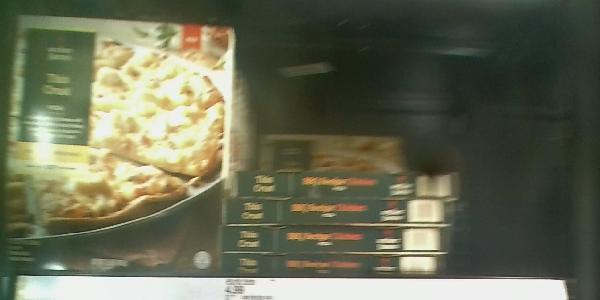pizza1: (7, 3, 231, 275)
pizza2: (233, 162, 452, 199), (230, 228, 450, 257), (232, 201, 455, 224), (234, 255, 445, 276)
